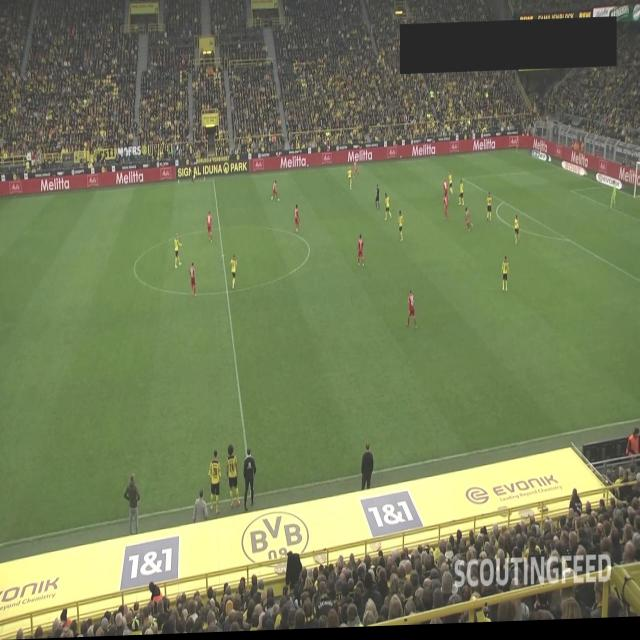goalkeeper: (610, 192, 616, 215)
player: (208, 451, 222, 517), (227, 446, 240, 510), (406, 292, 418, 331), (500, 259, 510, 296), (174, 234, 182, 270), (230, 255, 238, 291), (357, 236, 365, 271), (190, 263, 197, 299), (384, 195, 392, 223), (464, 209, 472, 235), (443, 197, 450, 225), (207, 212, 213, 244), (398, 212, 404, 244), (486, 195, 492, 226), (272, 181, 280, 204), (294, 206, 300, 236), (514, 218, 520, 248), (458, 181, 464, 209), (352, 162, 360, 182), (442, 181, 448, 205), (347, 171, 353, 193), (448, 174, 453, 198)
referee: (189, 159, 195, 186), (375, 187, 380, 213)
